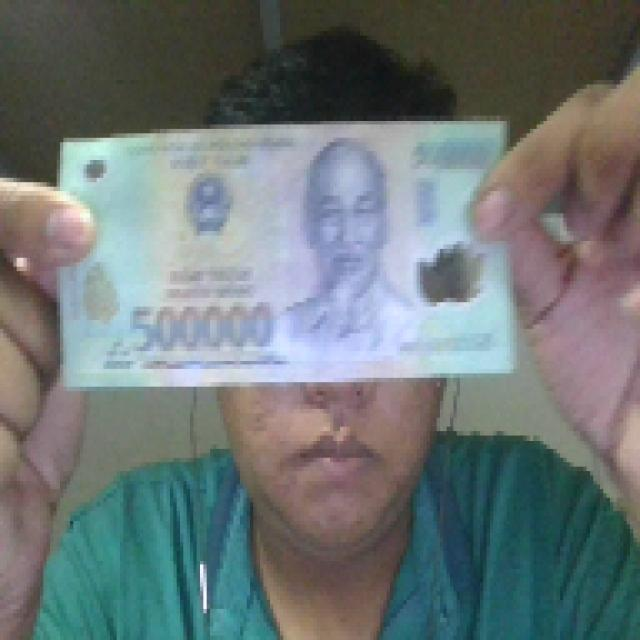500 000 VND: (50, 111, 523, 391)
